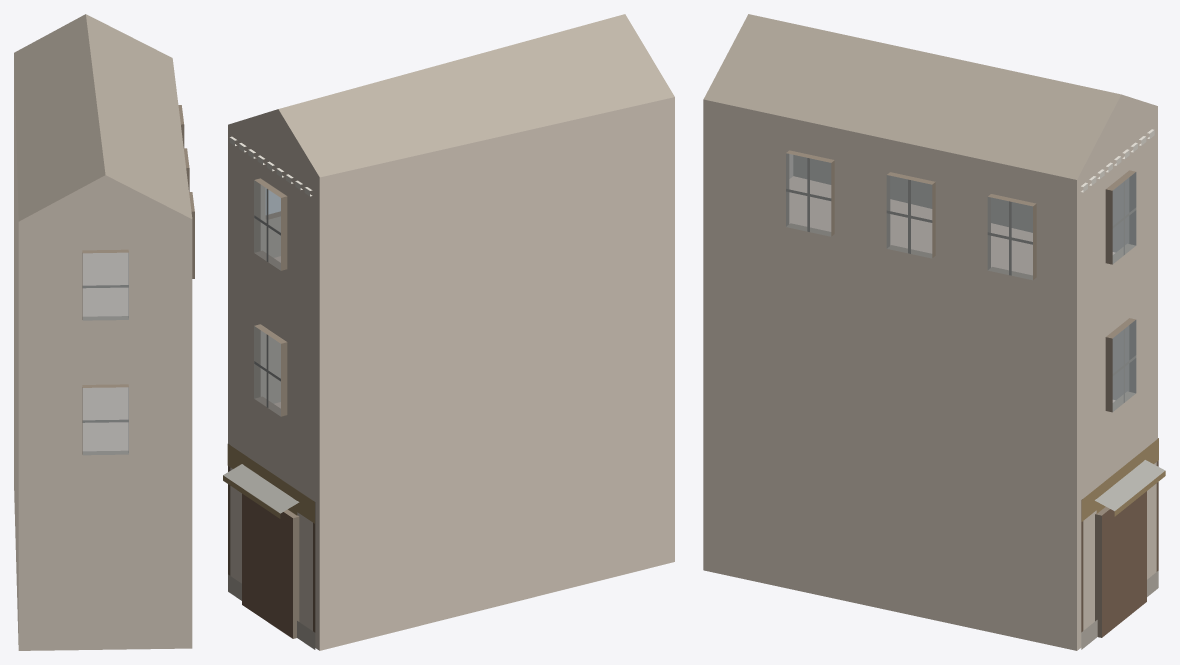
The picture shows the model from 3 angles, left to right: view 1: azimuth 30°, elevation 25°; view 2: azimuth 150°, elevation 25°; view 3: azimuth 270°, elevation 25°; orthographic projection. The views are drawn at different scales.
Parts seen in each view (by area): view 1: N-50; view 2: N-50; view 3: N-50.
Boxes of the visible parts, <box> form: N-50: <box>14,14,194,650</box>; N-50: <box>223,14,674,650</box>; N-50: <box>703,14,1165,650</box>.
Size of the model in its own units: 7.05 by 11.28 by 9.07.
